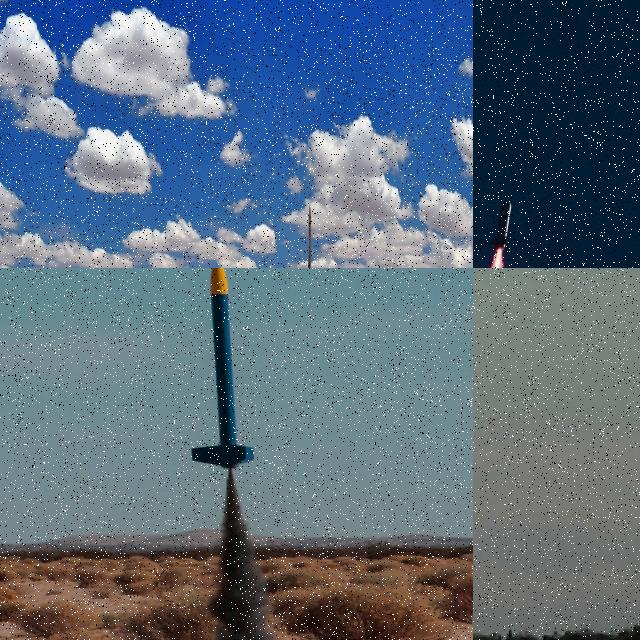Rocket: (190, 268, 256, 470), (487, 200, 515, 254), (308, 203, 311, 268)
